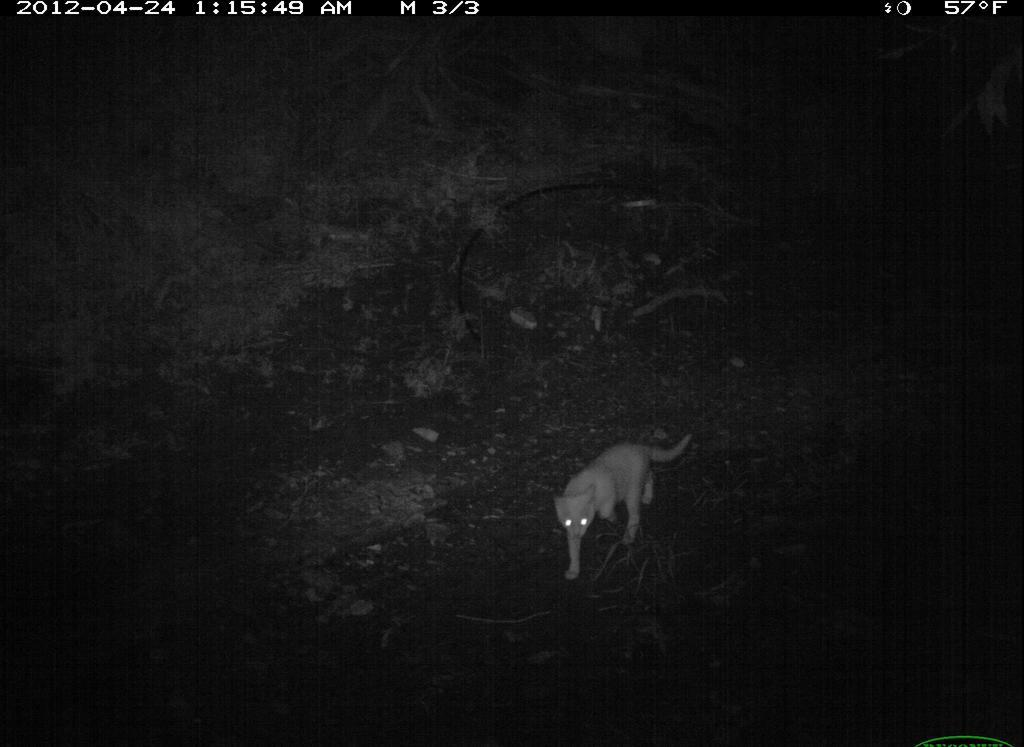cat: (538, 414, 722, 583)
